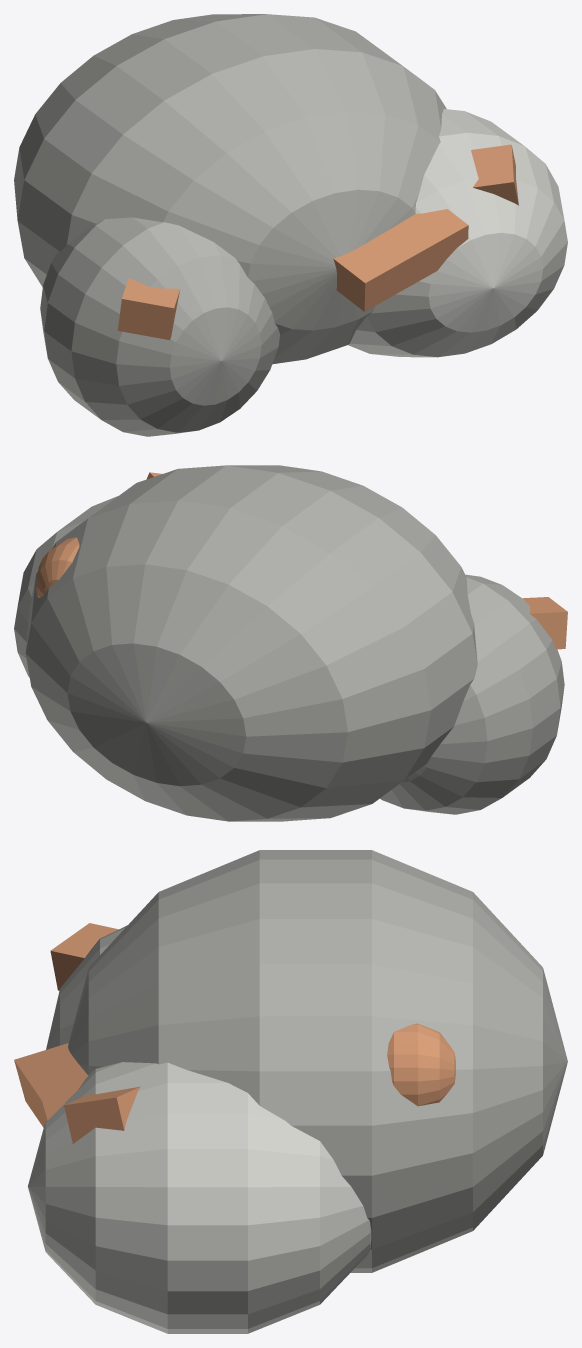
Rendered from item_iron_ore.glb.
The picture shows the model from 3 angles, top to bottom: view 1: azimuth 30°, elevation 25°; view 2: azimuth 150°, elevation 25°; view 3: azimuth 270°, elevation 25°; orthographic projection. The views are drawn at different scales.
Parts seen in each view (by area): view 1: stone_dark, stone, rust; view 2: stone_dark, rust, stone; view 3: stone_dark, stone, rust.
Boxes of the visible parts, left/top/right/bottom form: stone_dark: left=14, top=14, right=446, bottom=436; stone: left=348, top=109, right=567, bottom=357; rust: left=118, top=144, right=518, bottom=340; stone_dark: left=25, top=465, right=564, bottom=821; rust: left=36, top=472, right=567, bottom=649; stone: left=14, top=496, right=117, bottom=677; stone_dark: left=46, top=850, right=567, bottom=1272; stone: left=28, top=1062, right=371, bottom=1333; rust: left=14, top=923, right=455, bottom=1143.
Size of the model in its own units: 0.3755 by 0.2272 by 0.3076.
